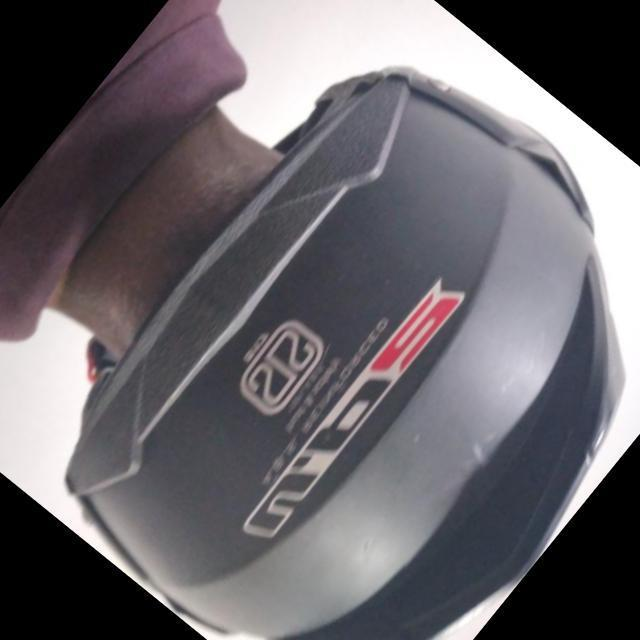with_helmet: (63, 65, 607, 628)
